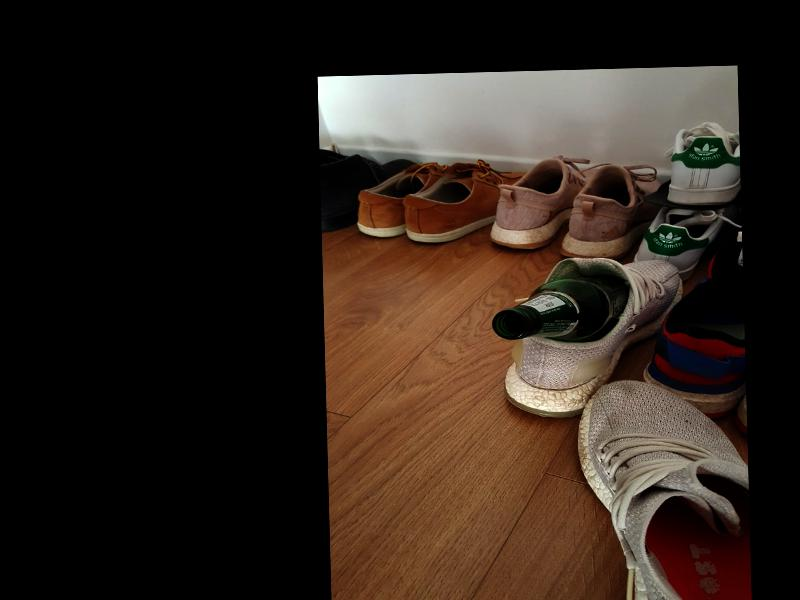Beer: (490, 273, 628, 341)
